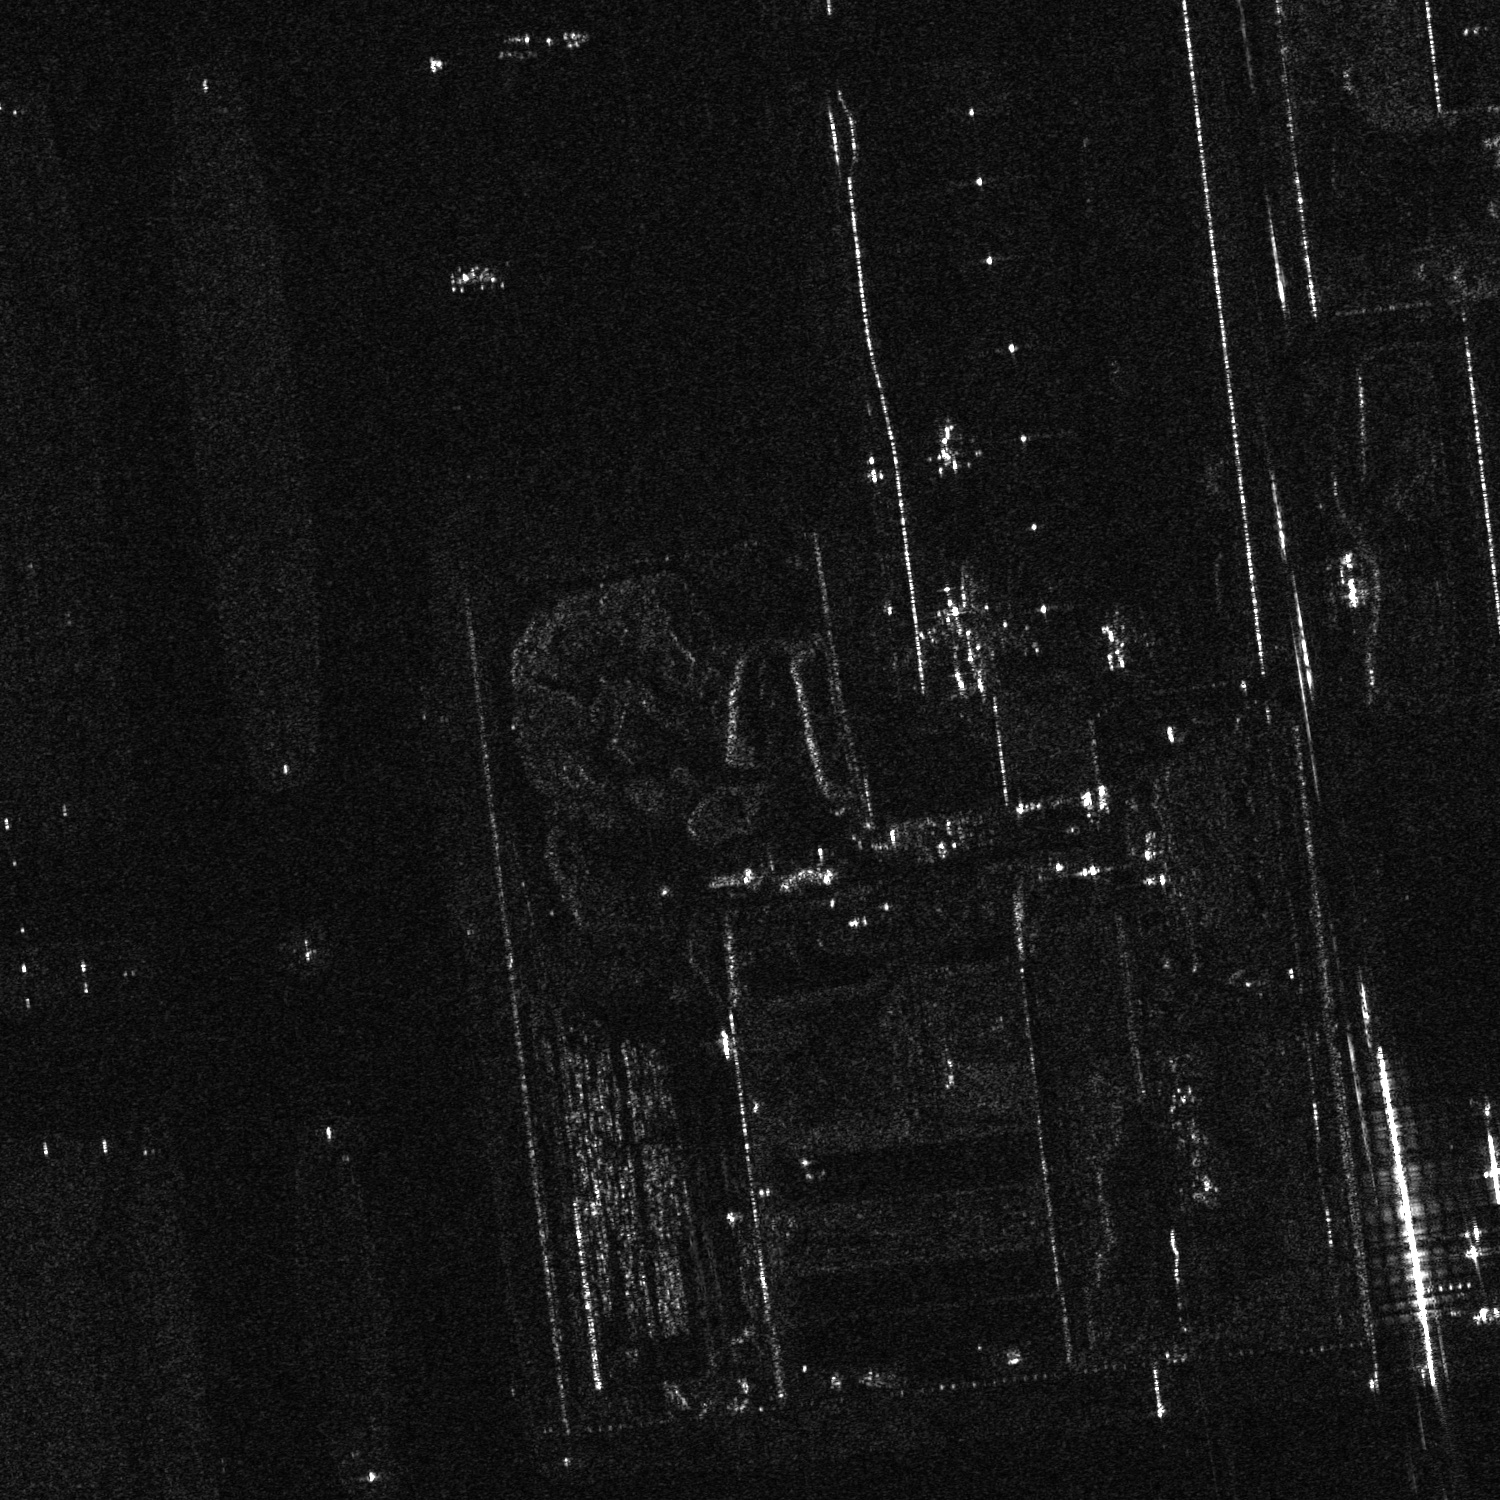A220: (1092, 624, 1136, 674)
other: (918, 580, 1011, 690), (918, 422, 981, 479)
